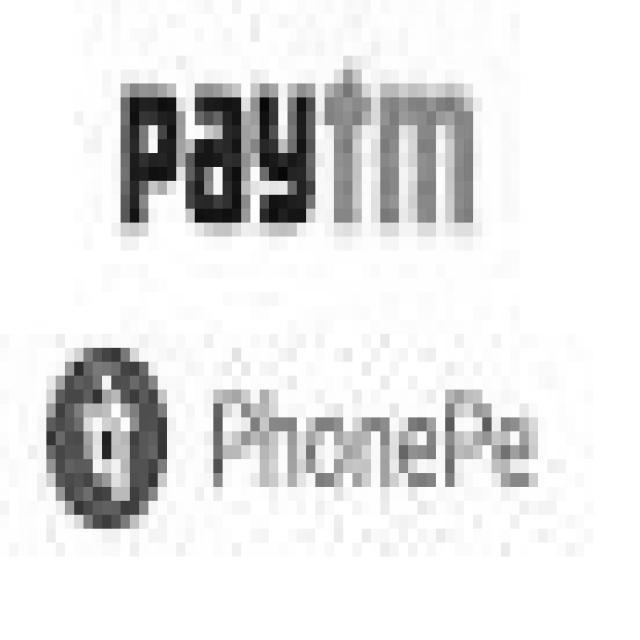fully_visible: (107, 48, 504, 258)
